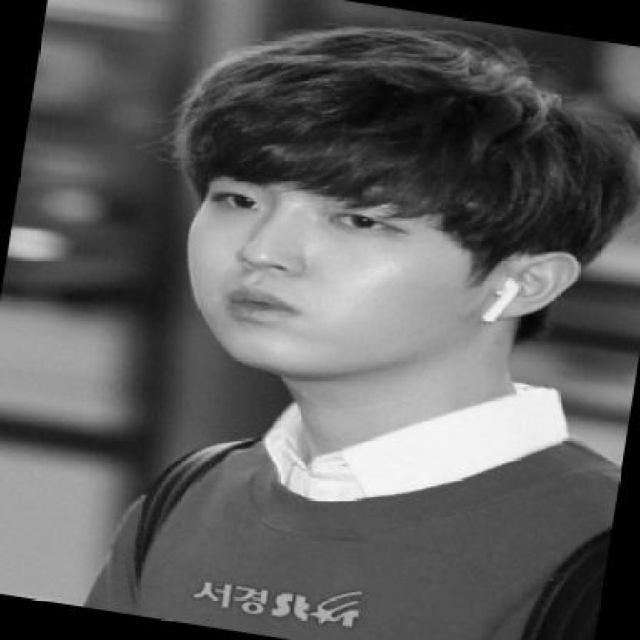earphone: (465, 241, 525, 344)
